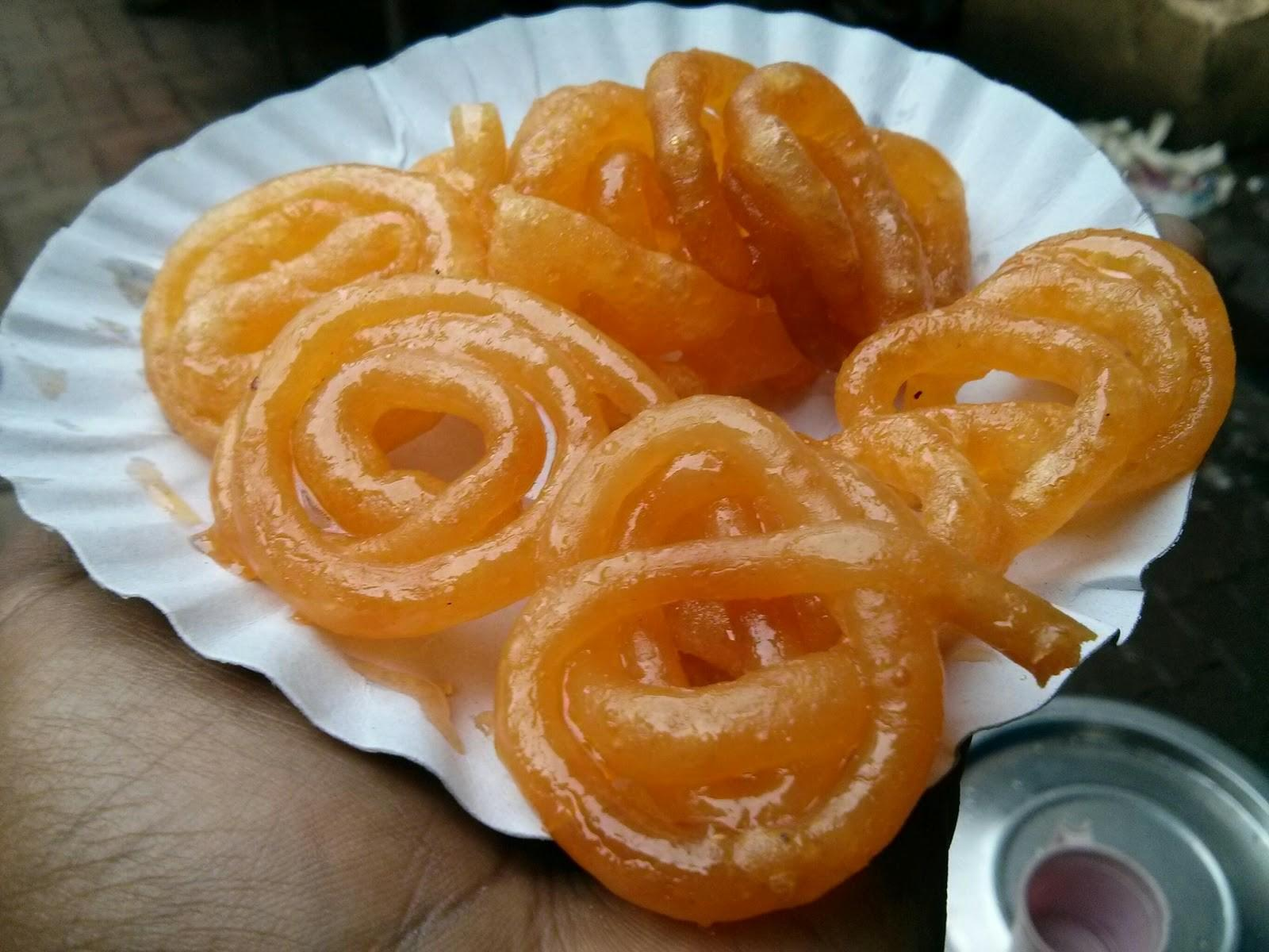Jalebi: (140, 38, 1233, 929)
